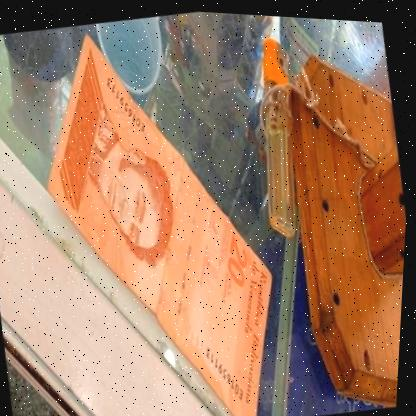twenty-front-vef: (12, 1, 311, 416)
